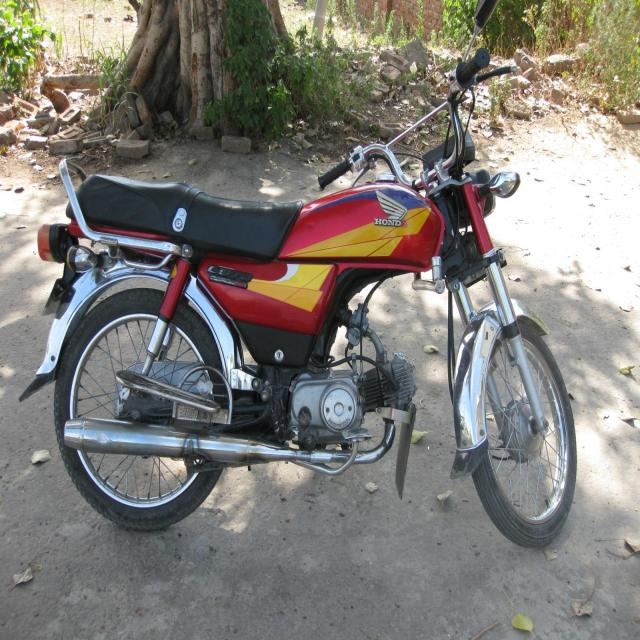motorcycle: (12, 0, 598, 568)
